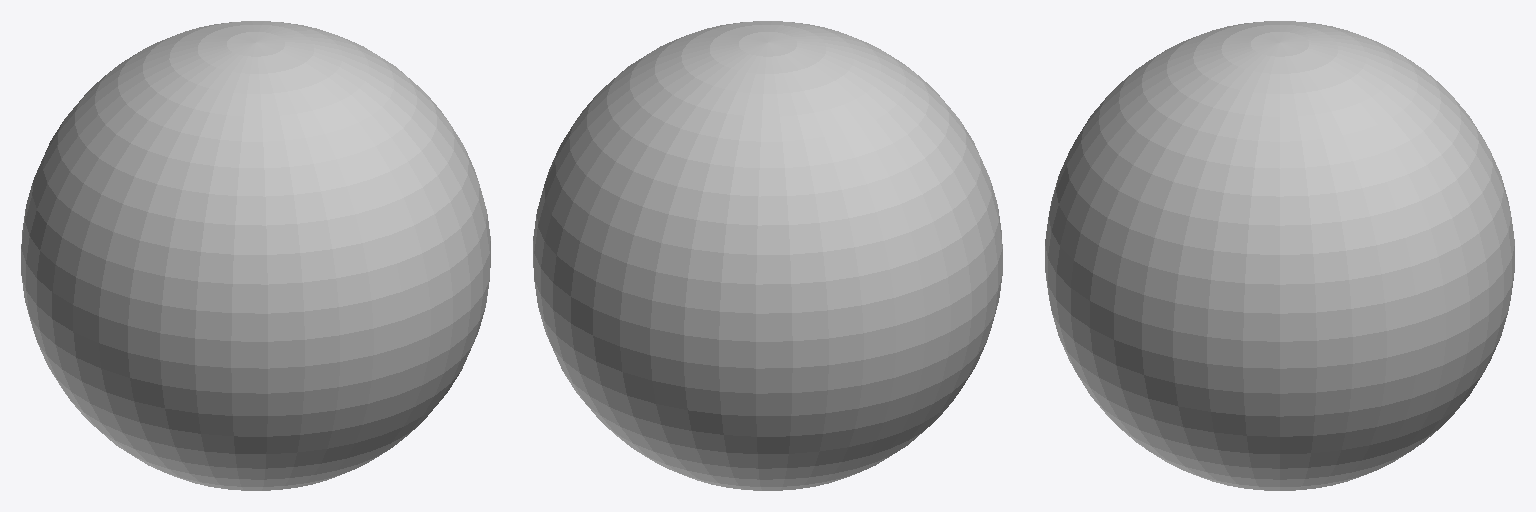
File: sphere_super_smooth.obj
3 views of the same model, side by side, from view 1: azimuth 30°, elevation 25°; view 2: azimuth 150°, elevation 25°; view 3: azimuth 270°, elevation 25° (orthographic).
Visible parts, largest first — view 1: Sphere; view 2: Sphere; view 3: Sphere.
Boxes of the visible parts, <box> form: Sphere: <box>21,21,490,490</box>; Sphere: <box>533,21,1002,490</box>; Sphere: <box>1045,21,1514,490</box>.
Size of the model in its own units: 3.33 by 3.33 by 3.33.